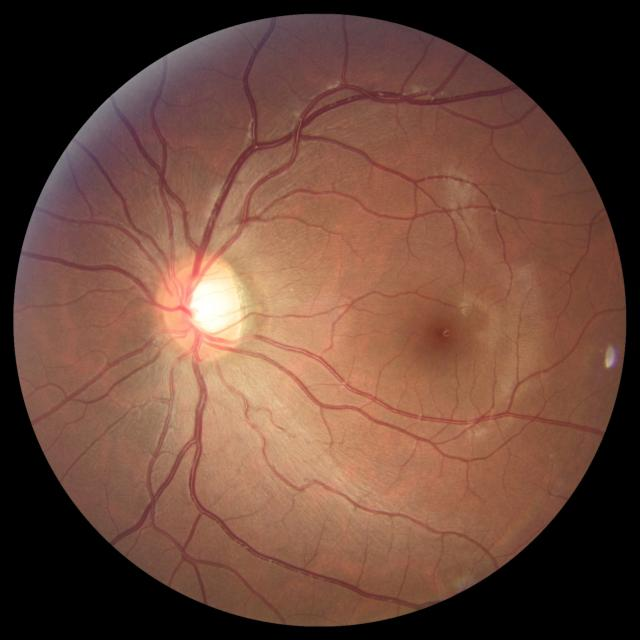OC: (185, 274, 238, 335)
OD: (157, 252, 246, 359)
